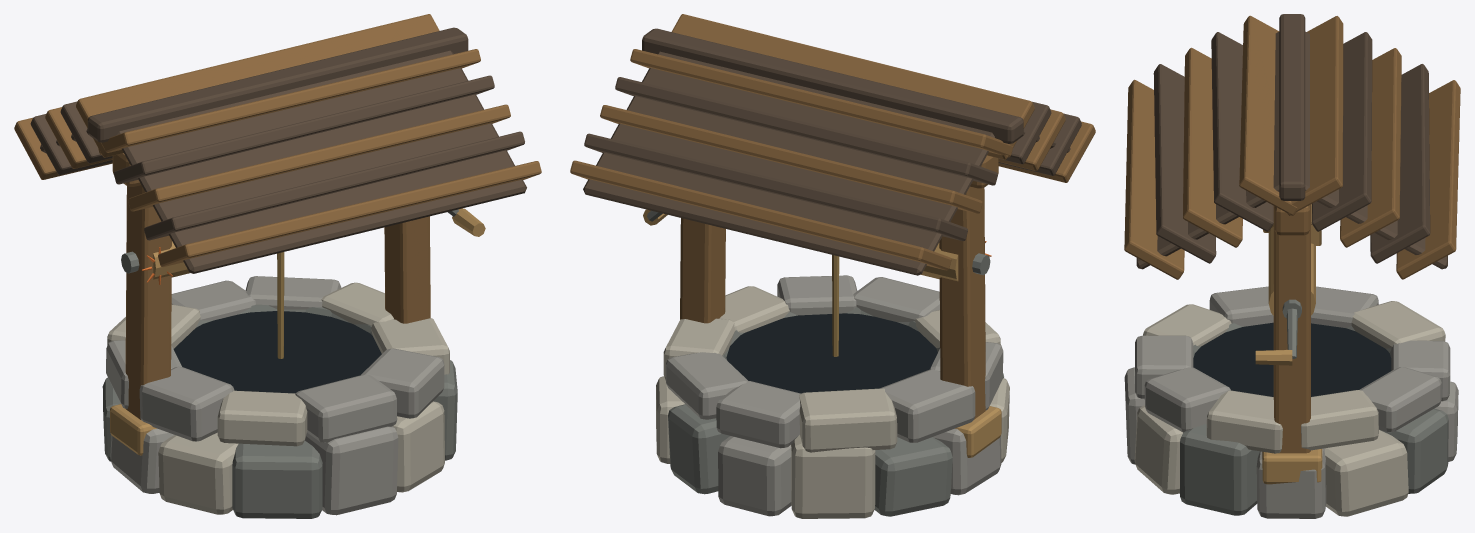
File: old_well.glb
The picture shows the model from 3 angles, left to right: view 1: azimuth 30°, elevation 25°; view 2: azimuth 150°, elevation 25°; view 3: azimuth 270°, elevation 25°; orthographic projection. The views are drawn at different scales.
Visible parts, largest first — view 1: old_well; view 2: old_well; view 3: old_well.
Boxes of the visible parts, x1,y1,x2,y2 form: old_well: (14, 14, 541, 518); old_well: (570, 14, 1095, 518); old_well: (1124, 14, 1460, 518).
Bounding box in the file's own units: 3.14 × 3.01 × 2.57.
